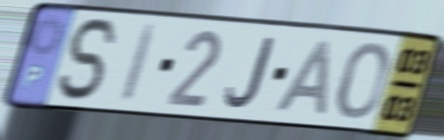2: (163, 27, 223, 110)
A: (271, 37, 334, 118)
I: (116, 21, 163, 107)
J: (223, 35, 277, 111)
O: (335, 39, 391, 122)
S: (56, 14, 123, 105)
